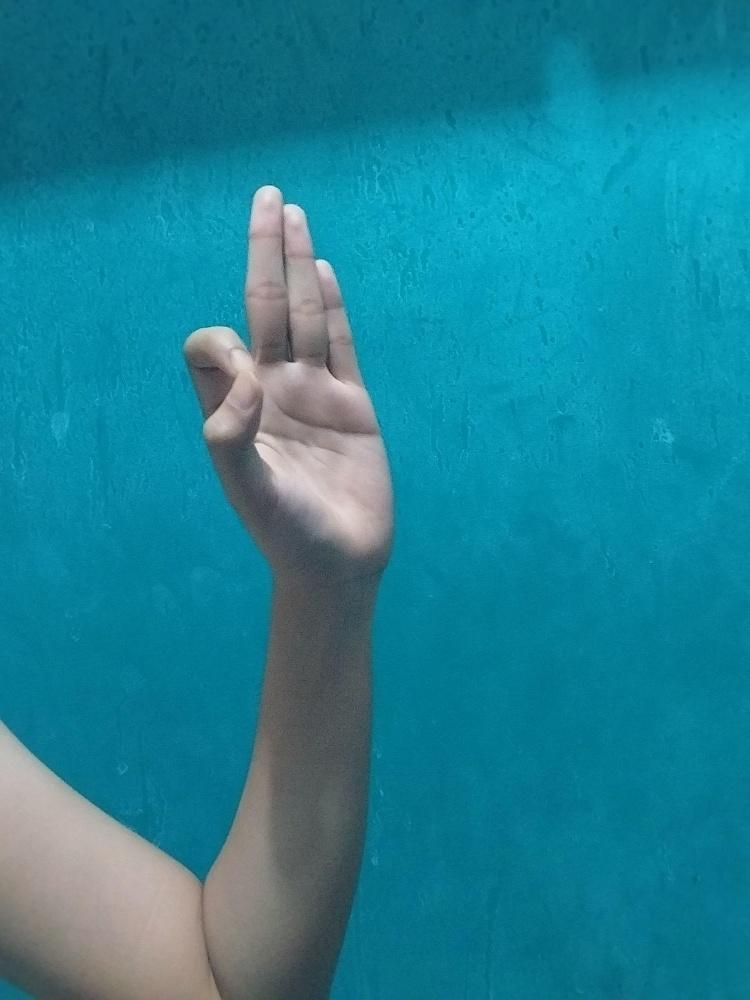f: (177, 179, 396, 592)
